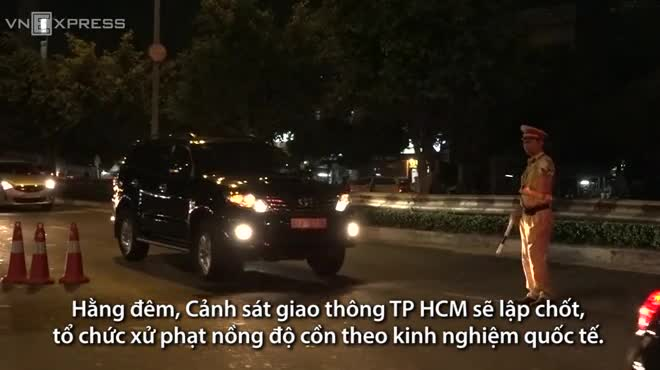police: (492, 122, 576, 315)
